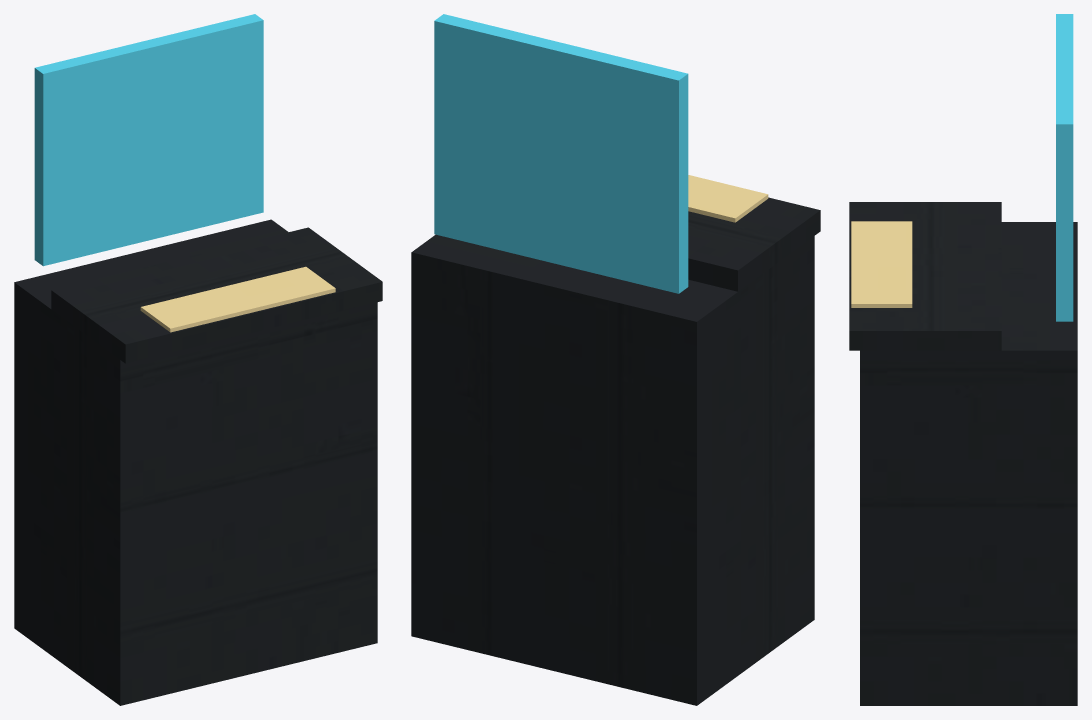
Rendered from terminal_01.glb.
3 views of the same model, side by side, from view 1: azimuth 30°, elevation 25°; view 2: azimuth 150°, elevation 25°; view 3: azimuth 270°, elevation 25° (orthographic). The views are drawn at different scales.
Parts seen in each view (by area): view 1: terminal_01; view 2: terminal_01; view 3: terminal_01.
Boxes of the visible parts, left/top/right/bottom form: terminal_01: left=14, top=14, right=382, bottom=705; terminal_01: left=411, top=14, right=820, bottom=705; terminal_01: left=849, top=14, right=1077, bottom=705.
Bounding box in the file's own units: 0.7 × 1.45 × 0.525.
Materials: 3 (3 with a texture image).
